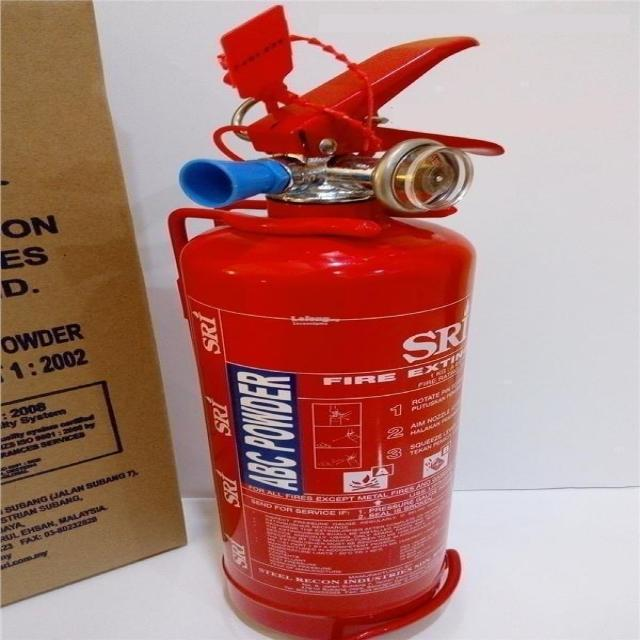fire_extinguisher: (141, 2, 543, 639)
